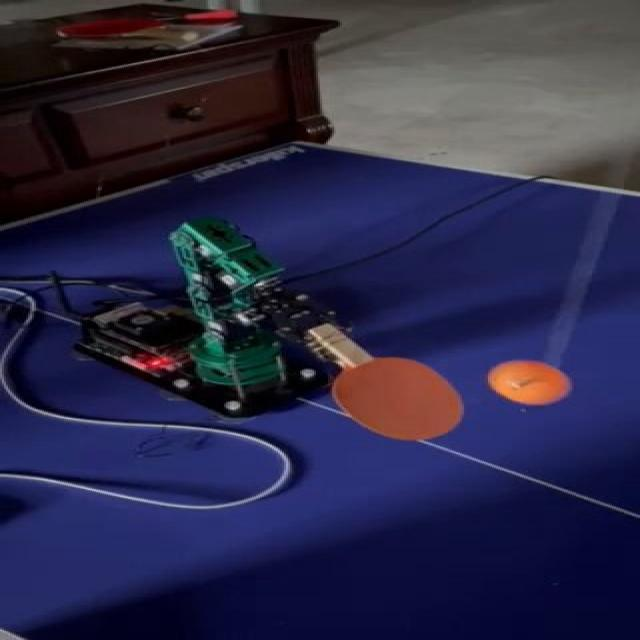ping-pong-ball: (480, 360, 574, 404)
